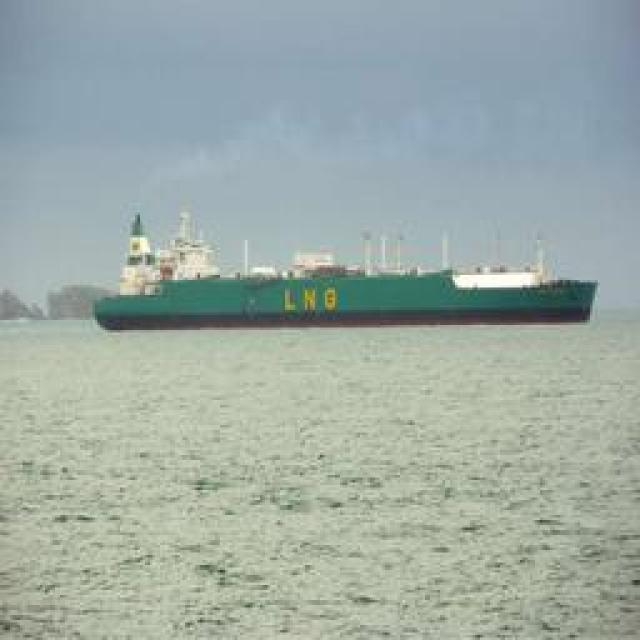CIV_Ship: (106, 210, 586, 328)
